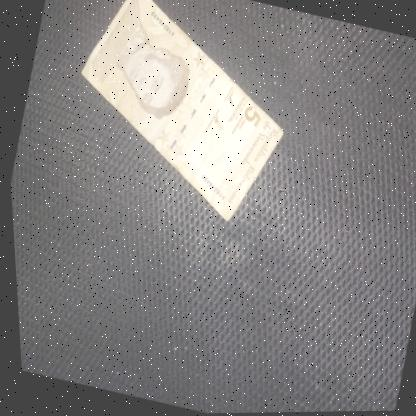five-front-vef: (47, 0, 313, 232)
